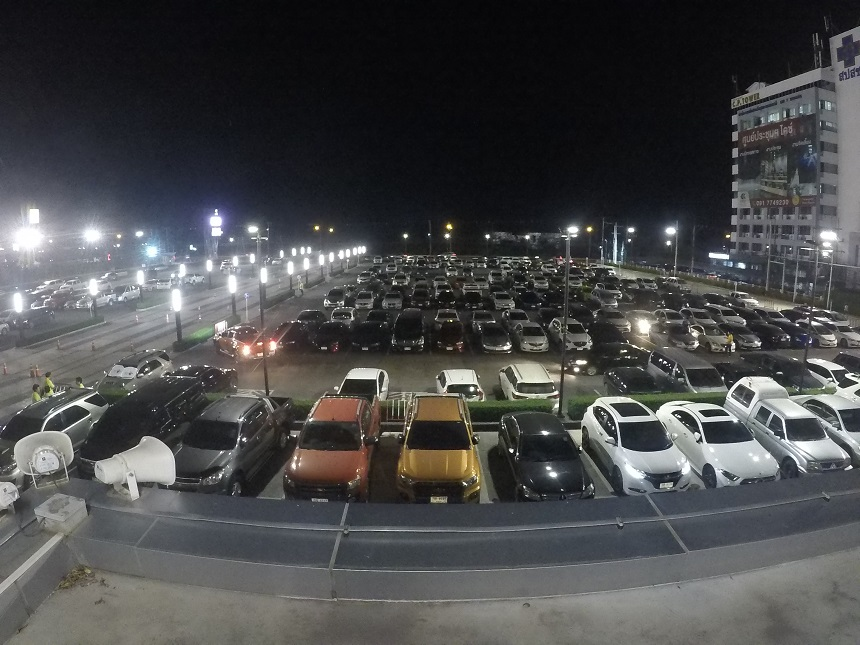busy: (285, 436, 366, 494), (394, 449, 481, 499), (195, 417, 265, 466), (507, 457, 588, 496), (616, 451, 689, 488), (709, 451, 778, 480), (113, 402, 181, 430), (36, 402, 92, 426), (666, 361, 714, 387), (503, 370, 551, 392), (114, 355, 163, 376), (342, 371, 387, 393), (825, 405, 860, 433), (790, 445, 838, 465), (437, 369, 477, 392), (392, 328, 428, 352), (433, 329, 466, 355), (353, 329, 385, 354), (267, 328, 300, 351), (477, 331, 510, 354), (777, 364, 811, 386), (194, 361, 231, 381), (308, 333, 343, 354), (615, 369, 645, 390), (663, 327, 696, 346), (727, 365, 761, 383), (812, 360, 848, 375), (521, 334, 550, 352), (562, 331, 585, 351), (598, 330, 624, 345), (710, 331, 736, 345), (820, 331, 840, 349), (792, 331, 814, 347), (768, 330, 788, 346), (738, 335, 762, 347), (841, 382, 860, 396), (843, 334, 860, 348)
